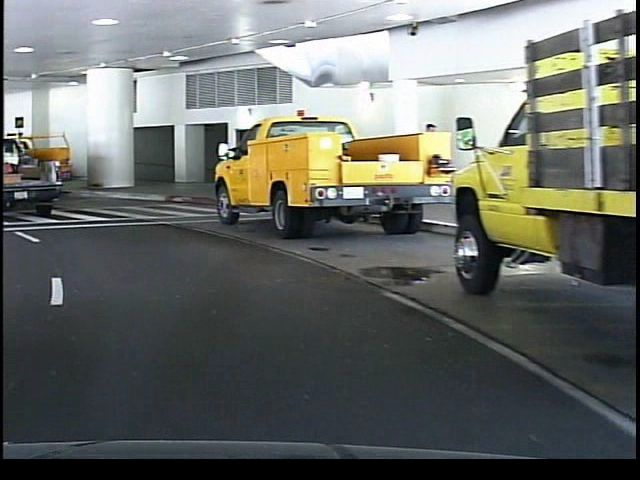person: (414, 117, 445, 210)
